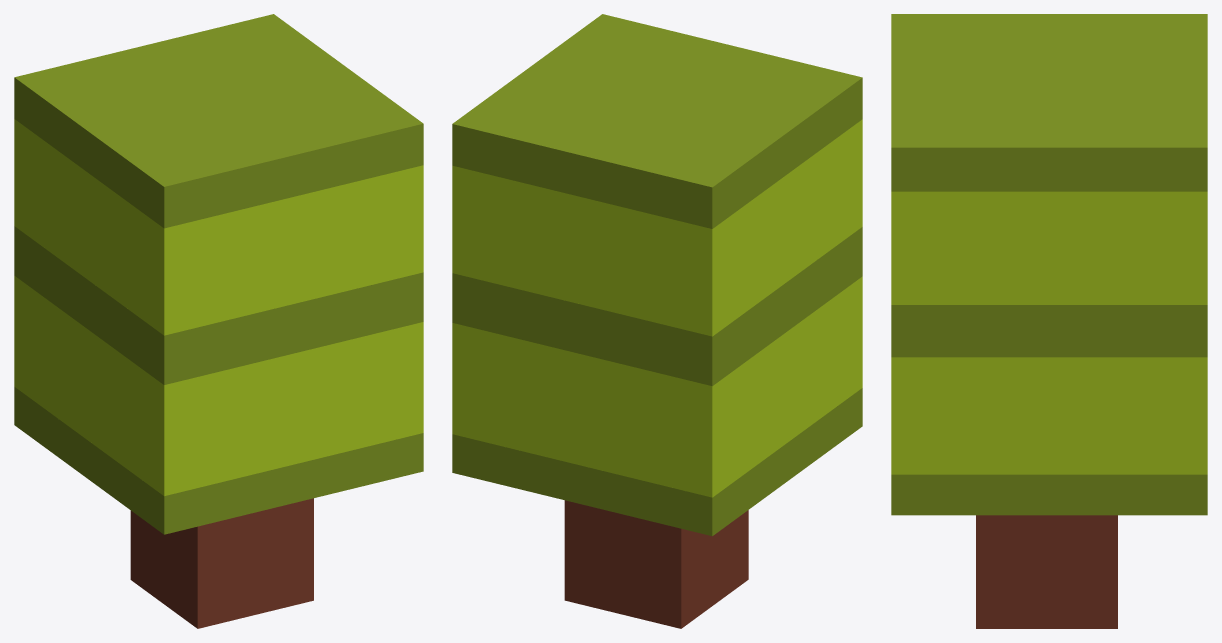
The model's file is tree.glb.
The picture shows the model from 3 angles, left to right: view 1: azimuth 30°, elevation 25°; view 2: azimuth 150°, elevation 25°; view 3: azimuth 270°, elevation 25°; orthographic projection. The views are drawn at different scales.
Parts seen in each view (by area): view 1: Cube.017; view 2: Cube.017; view 3: Cube.017.
Boxes of the visible parts, <box> form: Cube.017: <box>14,14,423,628</box>; Cube.017: <box>452,14,862,628</box>; Cube.017: <box>891,14,1207,628</box>.
Bounding box in the file's own units: 4.46 × 8.04 × 4.46.
